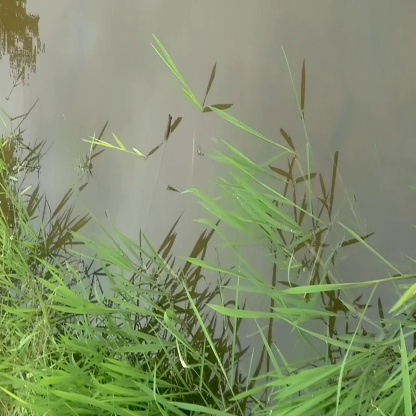grass: (203, 137, 312, 264)
